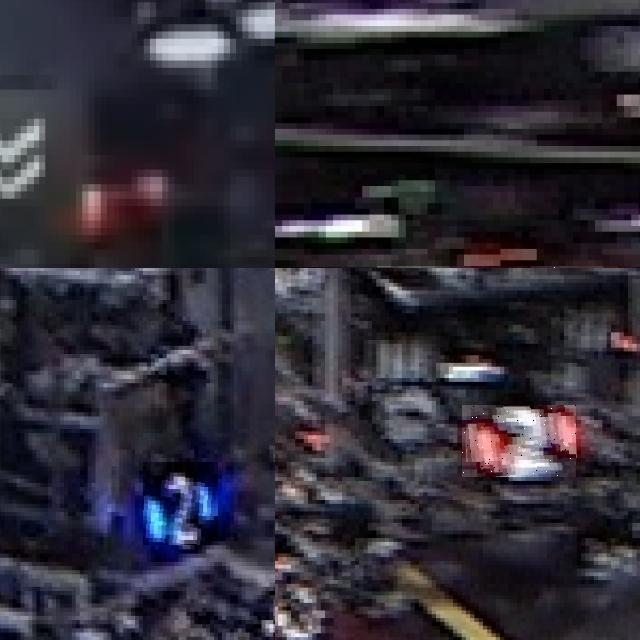B2: (143, 462, 218, 545)
R2: (462, 405, 576, 477)
